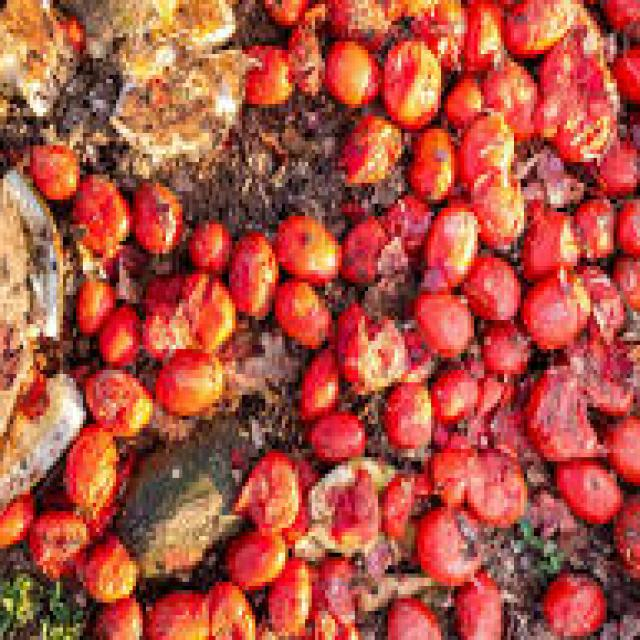inorganic: (8, 3, 632, 635)
